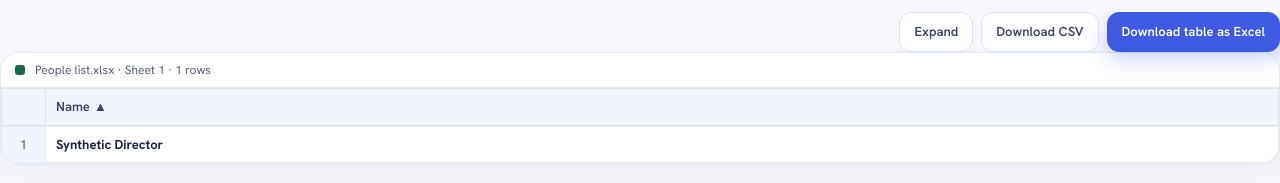
it: a table without an All chip still offers its downloads, and Expand is a plain button
Expected: the link "Download table as Excel" is shown, [1106, 12, 1279, 52]
What coordinates should you click on to do the following:
click the button "Expand"
I would click on:
 (936, 32)
Its box is [899, 12, 973, 52].
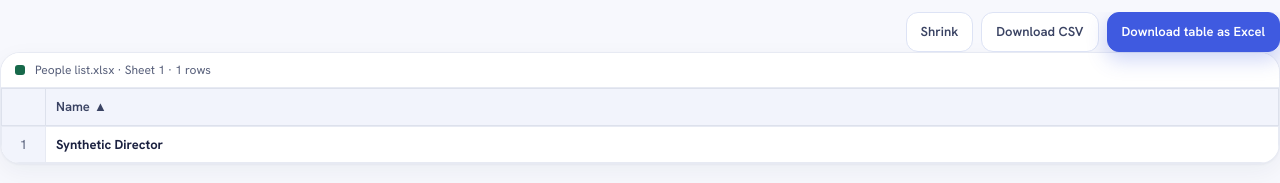
Now the button "Shrink" is shown, box [906, 12, 973, 52]
